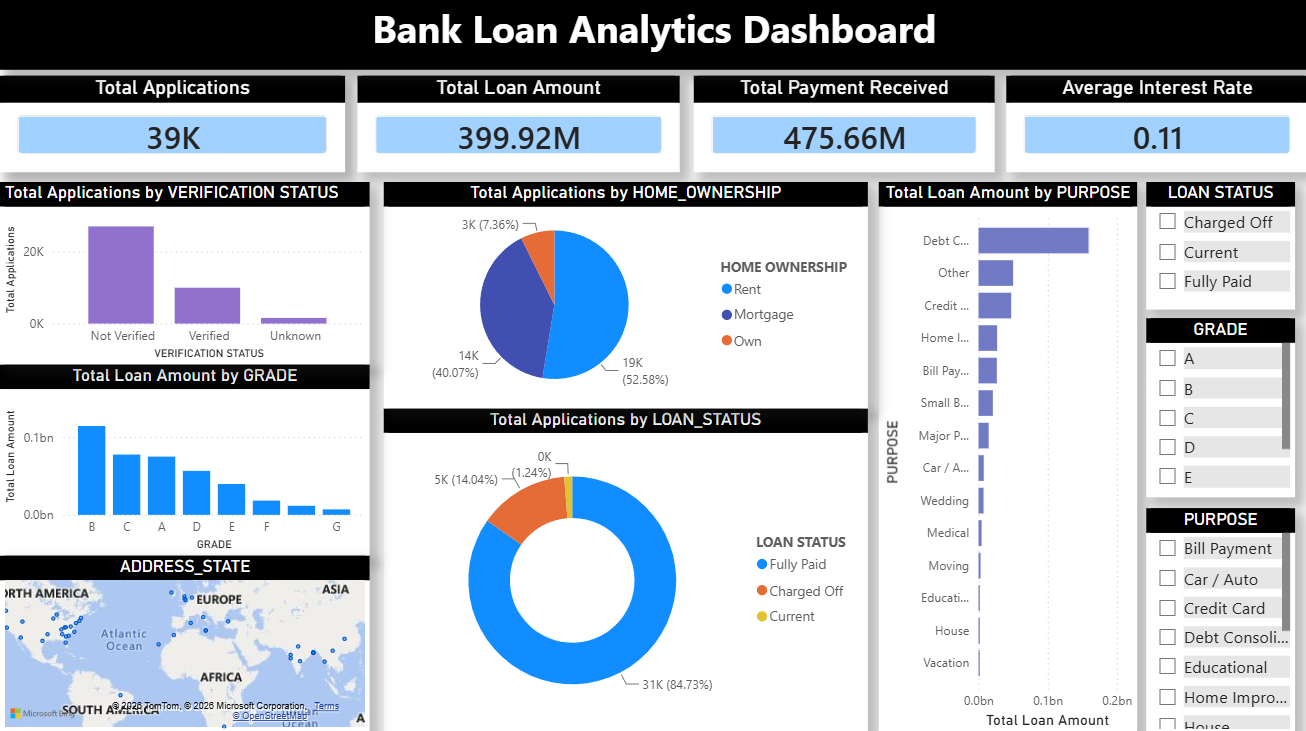

Layout of this report page (visuals, bound fields, positions):
{"tool":"powerbi","page":{"name":"Page 1","canvas":[1280,720],"ordinal":0},"visuals":[{"type":"cardVisual","title":"Total Applications","fields":{"Data":["Measures (2).Total Applications"]},"box":[0,77,337.5,94.2],"z":0},{"type":"cardVisual","title":"Total Loan Amount","fields":{"Data":["Measures (2).Total Loan Amount"]},"box":[349.7,77,315.5,94.2],"z":1000},{"type":"cardVisual","title":"Total Payment Received","fields":{"Data":["Measures (2).Total Payment Received"]},"box":[678.7,77,294.7,94.2],"z":2000},{"type":"cardVisual","title":"Average Interest Rate","fields":{"Data":["Measures (2).Average Interest Rate"]},"box":[984.4,77,295.9,94.2],"z":3000},{"type":"donutChart","fields":{"Y":["Measures (2).Total Applications"],"Category":["LoanData.LOAN_STATUS"]},"box":[375.4,402.3,473.2,317.9],"z":4000},{"type":"clusteredBarChart","fields":{"Category":["LoanData.PURPOSE"],"Y":["Measures (2).Total Loan Amount"]},"box":[859.7,181,253.1,539.3],"z":5000},{"type":"columnChart","fields":{"Category":["LoanData.GRADE"],"Y":["Measures (2).Total Loan Amount"]},"box":[0,359.5,362,187.1],"z":6000},{"type":"pieChart","fields":{"Category":["LoanData.HOME_OWNERSHIP"],"Y":["Measures (2).Total Applications"]},"box":[375.4,181,473.2,221.3],"z":7000},{"type":"clusteredColumnChart","fields":{"Category":["LoanData.VERIFICATION STATUS"],"Y":["Measures (2).Total Applications"]},"box":[0,181,362,178.5],"z":8000},{"type":"map","fields":{"Category":["LoanData.ADDRESS_STATE"]},"box":[0,546.6,362,173.6],"z":9000},{"type":"slicer","title":"LOAN STATUS","fields":{"Values":["LoanData.LOAN_STATUS"]},"box":[1121.3,181,145.5,124.7],"z":10000},{"type":"slicer","title":"GRADE","fields":{"Values":["LoanData.GRADE"]},"box":[1121.3,314.3,145.5,174.9],"z":11000},{"type":"slicer","title":"PURPOSE","fields":{"Values":["LoanData.PURPOSE"]},"box":[1121.3,500.1,145.5,220.1],"z":12000},{"type":"textbox","box":[0,0,1280.3,70.9],"z":13000}]}

Visuals, with their boxes in screenshot pixels (x1, y1, x2, y2), scaled from the page's 1280x720 canvas onto the 1306x731 screenshot:
"Total Applications" cardVisual: select_region(0, 78, 344, 174)
"Total Loan Amount" cardVisual: select_region(357, 78, 679, 174)
"Total Payment Received" cardVisual: select_region(692, 78, 993, 174)
"Average Interest Rate" cardVisual: select_region(1004, 78, 1305, 174)
donutChart - Measures (2).Total Applications x LoanData.LOAN_STATUS: select_region(383, 408, 866, 730)
clusteredBarChart - LoanData.PURPOSE x Measures (2).Total Loan Amount: select_region(877, 184, 1135, 730)
columnChart - LoanData.GRADE x Measures (2).Total Loan Amount: select_region(0, 365, 369, 555)
pieChart - LoanData.HOME_OWNERSHIP x Measures (2).Total Applications: select_region(383, 184, 866, 408)
clusteredColumnChart - LoanData.VERIFICATION STATUS x Measures (2).Total Applications: select_region(0, 184, 369, 365)
map - LoanData.ADDRESS_STATE: select_region(0, 555, 369, 730)
"LOAN STATUS" slicer: select_region(1144, 184, 1293, 310)
"GRADE" slicer: select_region(1144, 319, 1293, 497)
"PURPOSE" slicer: select_region(1144, 508, 1293, 730)
textbox: select_region(0, 0, 1305, 72)
